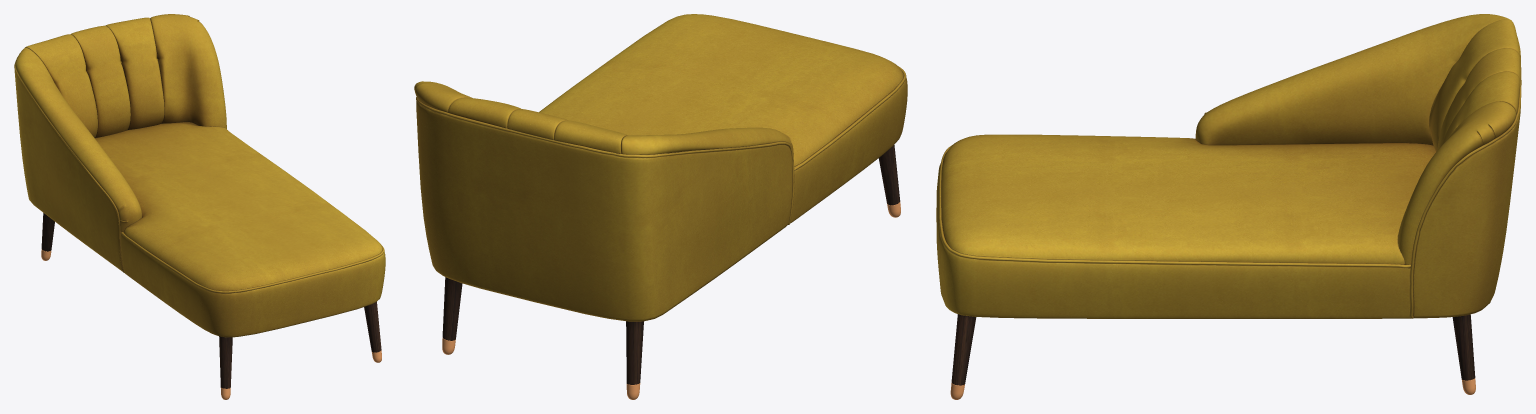
File: Margot Gold.glb
3 views of the same model, side by side, from view 1: azimuth 30°, elevation 25°; view 2: azimuth 150°, elevation 25°; view 3: azimuth 270°, elevation 25° (orthographic). The views are drawn at different scales.
Visible parts, largest first — view 1: Margot_Left_Hand_Facing_Chaise_AntiqueGold_VELVET_0, Margot_Left_Hand_Facing_Chaise_AntiqueGold_WOOD_0; view 2: Margot_Left_Hand_Facing_Chaise_AntiqueGold_VELVET_0, Margot_Left_Hand_Facing_Chaise_AntiqueGold_WOOD_0, Margot_Left_Hand_Facing_Chaise_AntiqueGold_Gold_0; view 3: Margot_Left_Hand_Facing_Chaise_AntiqueGold_VELVET_0, Margot_Left_Hand_Facing_Chaise_AntiqueGold_WOOD_0.
Part boxes in pixels (box(x1,y1,x2,y2)): Margot_Left_Hand_Facing_Chaise_AntiqueGold_VELVET_0: box(14, 14, 385, 337); Margot_Left_Hand_Facing_Chaise_AntiqueGold_WOOD_0: box(41, 213, 381, 388); Margot_Left_Hand_Facing_Chaise_AntiqueGold_VELVET_0: box(414, 14, 907, 321); Margot_Left_Hand_Facing_Chaise_AntiqueGold_WOOD_0: box(442, 145, 900, 384); Margot_Left_Hand_Facing_Chaise_AntiqueGold_Gold_0: box(442, 202, 900, 399); Margot_Left_Hand_Facing_Chaise_AntiqueGold_VELVET_0: box(936, 14, 1521, 318); Margot_Left_Hand_Facing_Chaise_AntiqueGold_WOOD_0: box(951, 314, 1475, 385).
Bounding box in the file's own units: 74 × 76.78 × 144.
3 materials, 2 textured.
